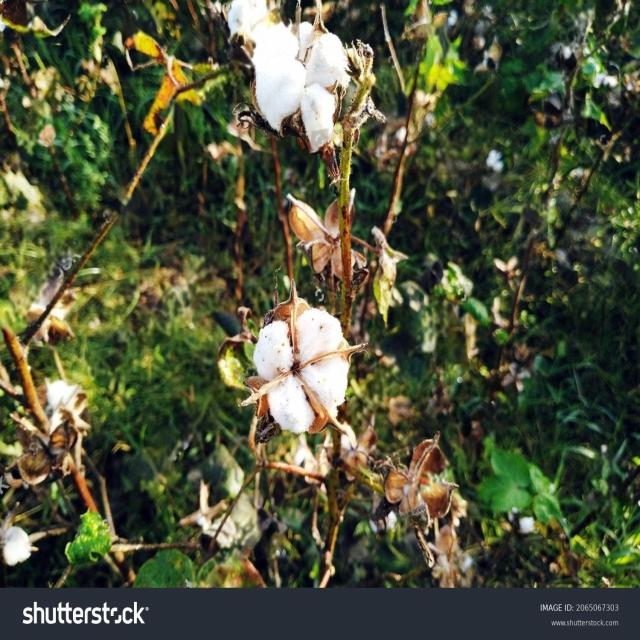Leaf: (230, 265, 366, 454), (237, 7, 373, 167)
